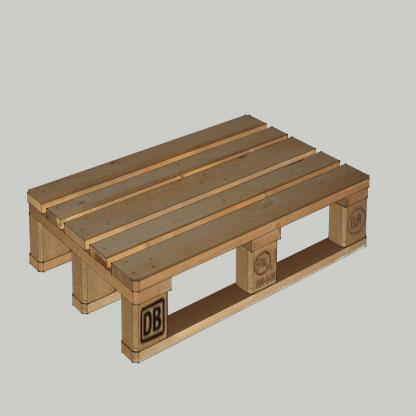BoxFace: (26, 114, 371, 364)
